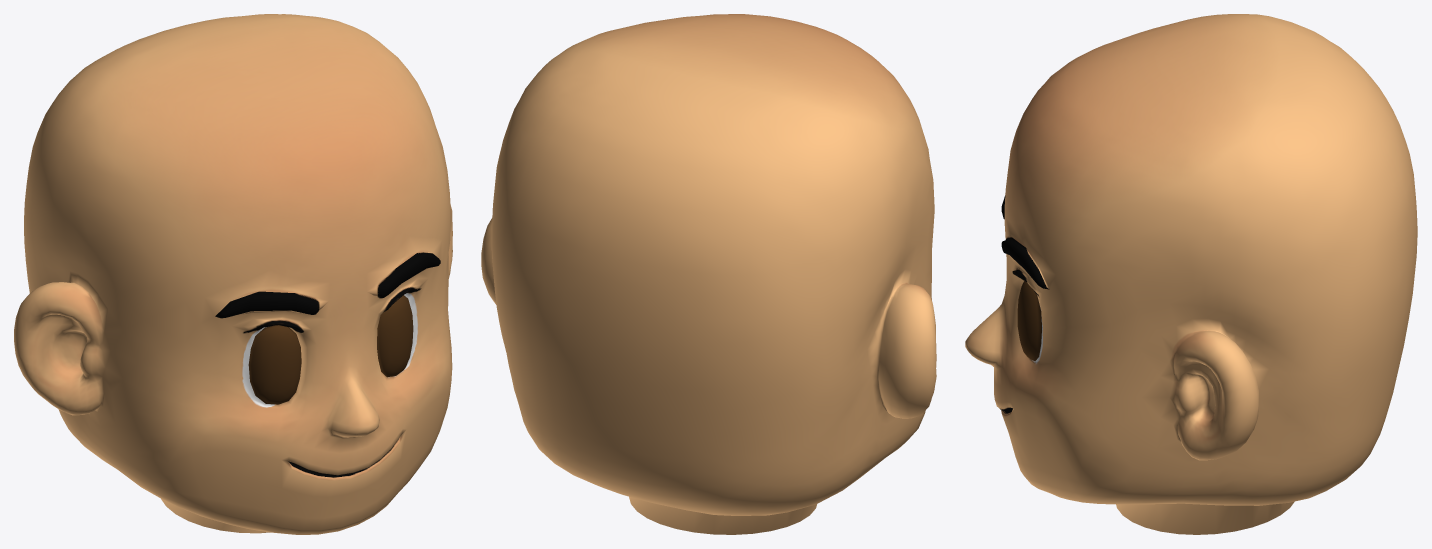
The model's file is Head_Bacon.glb.
The picture shows the model from 3 angles, left to right: view 1: azimuth 30°, elevation 25°; view 2: azimuth 150°, elevation 25°; view 3: azimuth 270°, elevation 25°; orthographic projection. The views are drawn at different scales.
Parts seen in each view (by area): view 1: Hair_low; view 2: Hair_low; view 3: Hair_low.
Boxes of the visible parts, bbox=[...] form: Hair_low: bbox=[14, 14, 452, 534]; Hair_low: bbox=[481, 14, 936, 534]; Hair_low: bbox=[965, 14, 1417, 534].
Bounding box in the file's own units: 0.0463 × 0.0451 × 0.0415.
Materials: 1 (1 with a texture image).
